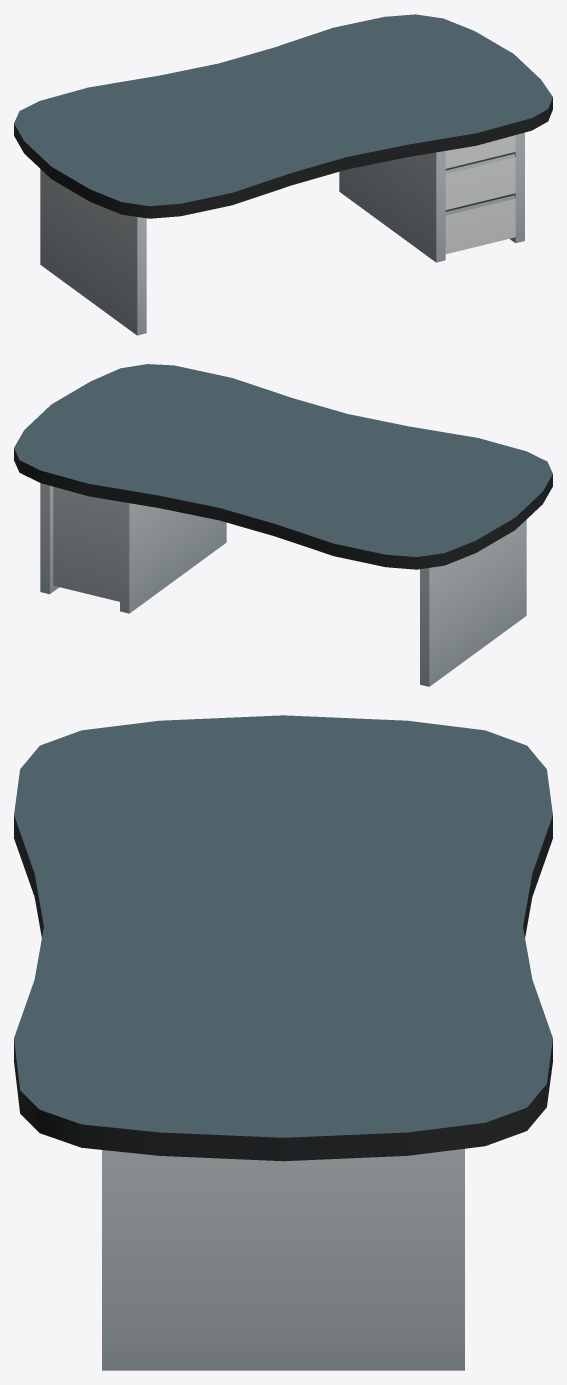
Rendered from table.glb.
3 views of the same model, one above another, from view 1: azimuth 30°, elevation 25°; view 2: azimuth 150°, elevation 25°; view 3: azimuth 270°, elevation 25° (orthographic). The views are drawn at different scales.
Parts seen in each view (by area): view 1: Table_06; view 2: Table_06; view 3: Table_06.
Boxes of the visible parts, x1,y1,x2,y2 form: Table_06: (14,14,552,335); Table_06: (14,364,552,686); Table_06: (14,715,552,1370).
Bounding box in the file's own units: 2.71 × 0.7969 × 1.46.
1 material, 1 textured.
